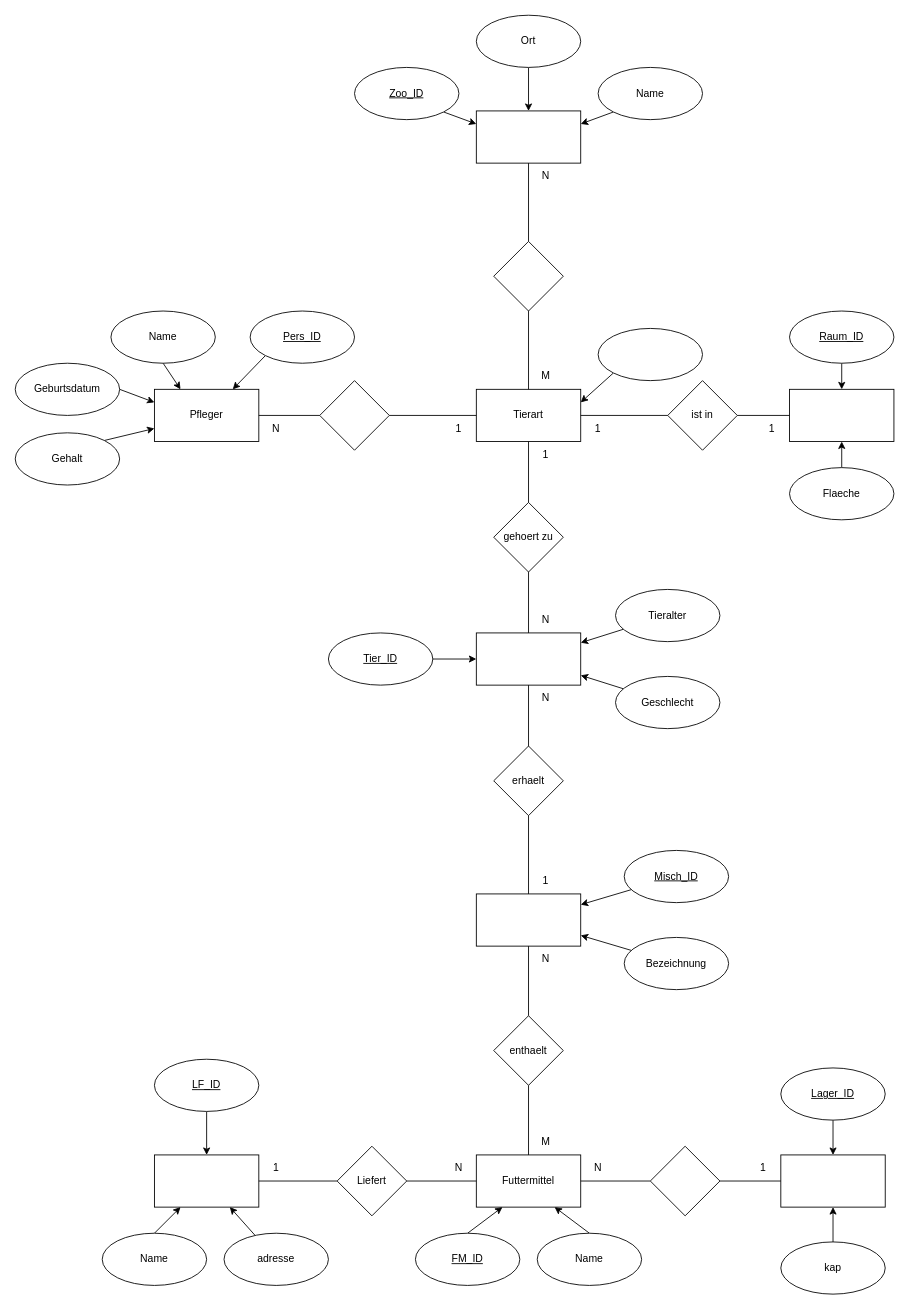
Image size: 909x1309. Some labels were removed from this diagram. Here are the shapes that lost their labels. From the top down, the centre of each, then its label:
At [528,136]: "Zoo".
At [528,276]: "haelt".
At [650,354]: "Artname".
At [354,415]: "pflegt".
At [841,415]: "Raum".
At [528,658]: "tier".
At [528,919]: "Mischung".
At [206,1180]: "Lieferant".
At [684,1180]: "Gelagert in".
At [832,1180]: "Lager".
